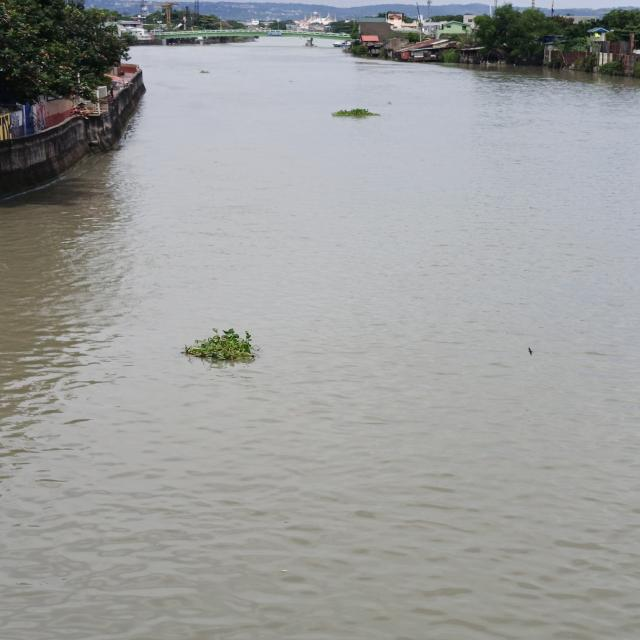Organic Debris: (158, 322, 291, 376), (322, 96, 386, 126)
